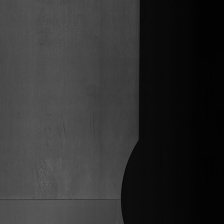welding_line: (1, 189, 127, 209)
